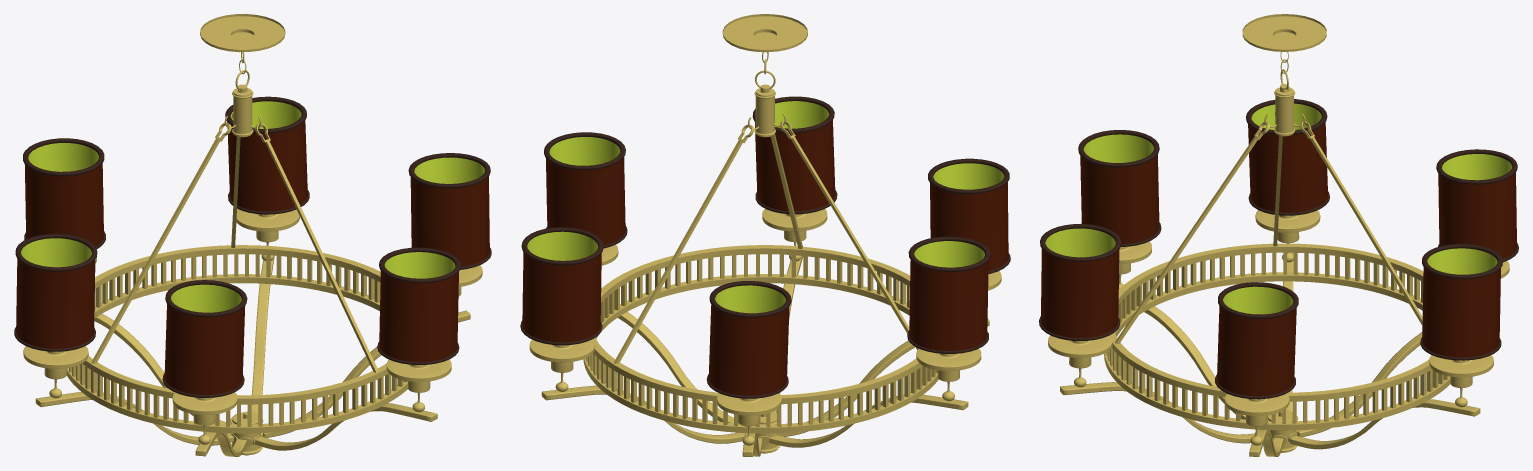
The model's file is MB_Chandelier.FBX.
3 renders of one model, left to right at view 1: azimuth 30°, elevation 25°; view 2: azimuth 150°, elevation 25°; view 3: azimuth 270°, elevation 25°, orthographic.
Visible parts, largest first — view 1: Chrome_Ring, Cap_01, Cap_02; view 2: Chrome_Ring, Cap_01, Cap_02; view 3: Chrome_Ring, Cap_01, Cap_02.
Boxes of the visible parts, x1=… form: Chrome_Ring: x1=14, y1=14, x2=491, y2=456; Cap_01: x1=16, y1=121, x2=489, y2=394; Cap_02: x1=21, y1=101, x2=484, y2=312; Chrome_Ring: x1=520, y1=14, x2=1010, y2=456; Cap_01: x1=522, y1=120, x2=1008, y2=395; Cap_02: x1=527, y1=101, x2=1004, y2=313; Chrome_Ring: x1=1039, y1=14, x2=1518, y2=456; Cap_01: x1=1041, y1=122, x2=1516, y2=396; Cap_02: x1=1045, y1=103, x2=1512, y2=314.
Bounding box in the file's own units: 0.9778 × 0.8767 × 0.9107.
